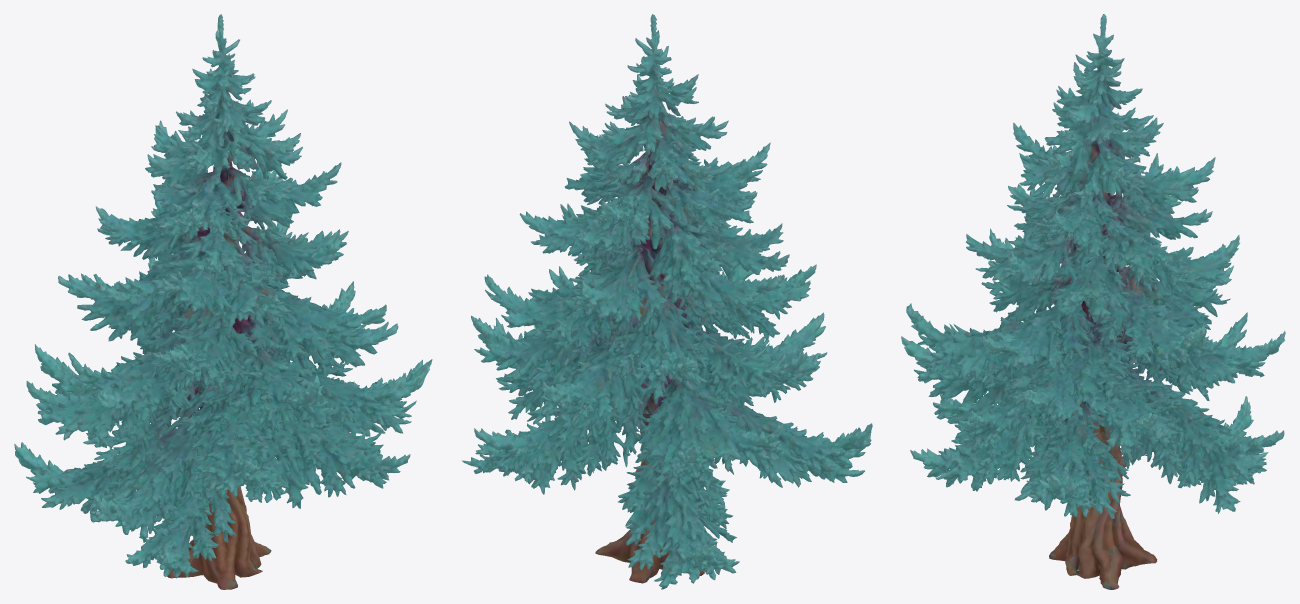
The model's file is Meshy_AI_tree_spruce_b_0823014458_image-to-3d-texture.glb.
3 views of the same model, side by side, from view 1: azimuth 30°, elevation 25°; view 2: azimuth 150°, elevation 25°; view 3: azimuth 270°, elevation 25° (orthographic).
Bounding box in the file's own units: 1.3 × 1.9 × 1.2.
Materials: 1 (1 with a texture image).
